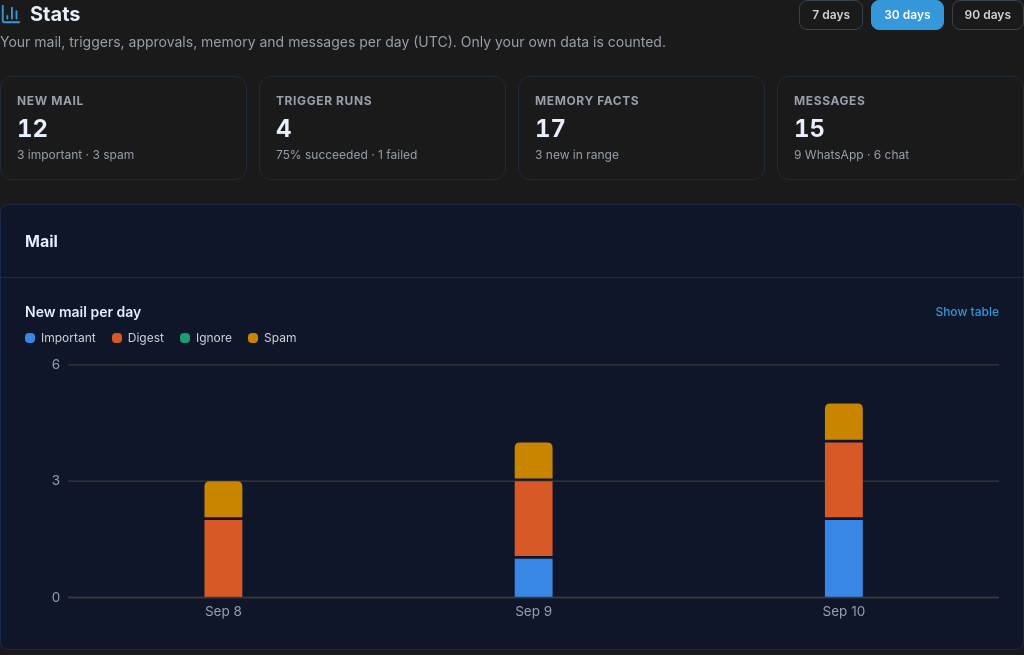
Test: StatsPage › switches the range and offers a table view instead of the chart
Expected: the element with test id "stat-New mail" is shown, top-left (0, 76), bottom-right (247, 180)
Click the button "7 days" at x=831, y=15, box top-left (799, 0), bottom-right (863, 30)
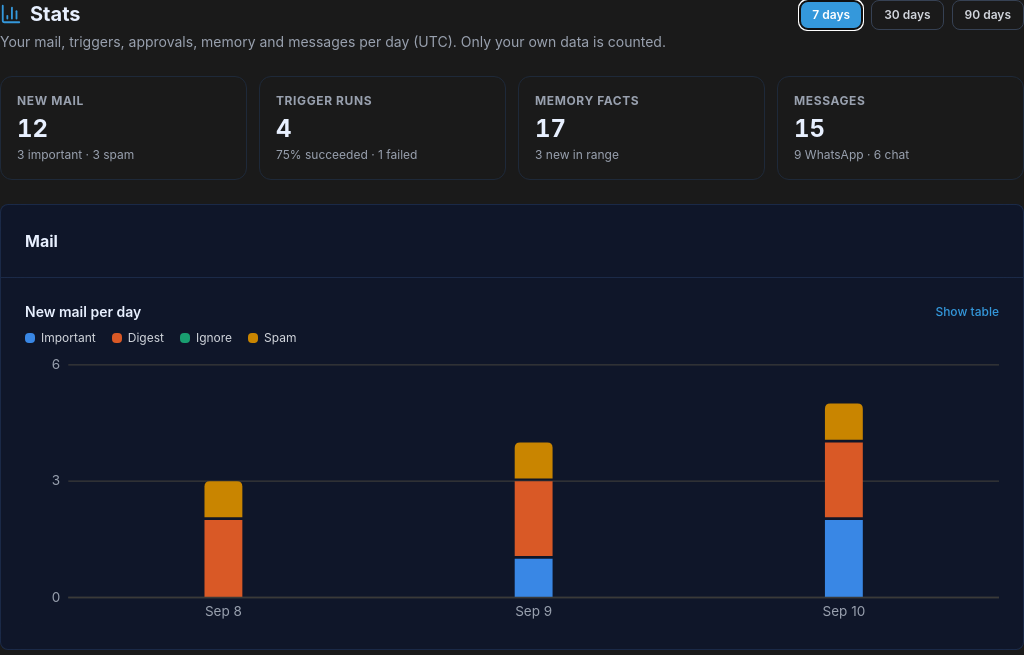
Click the button "Show table" at x=967, y=312, box top-left (935, 304), bottom-right (999, 320)
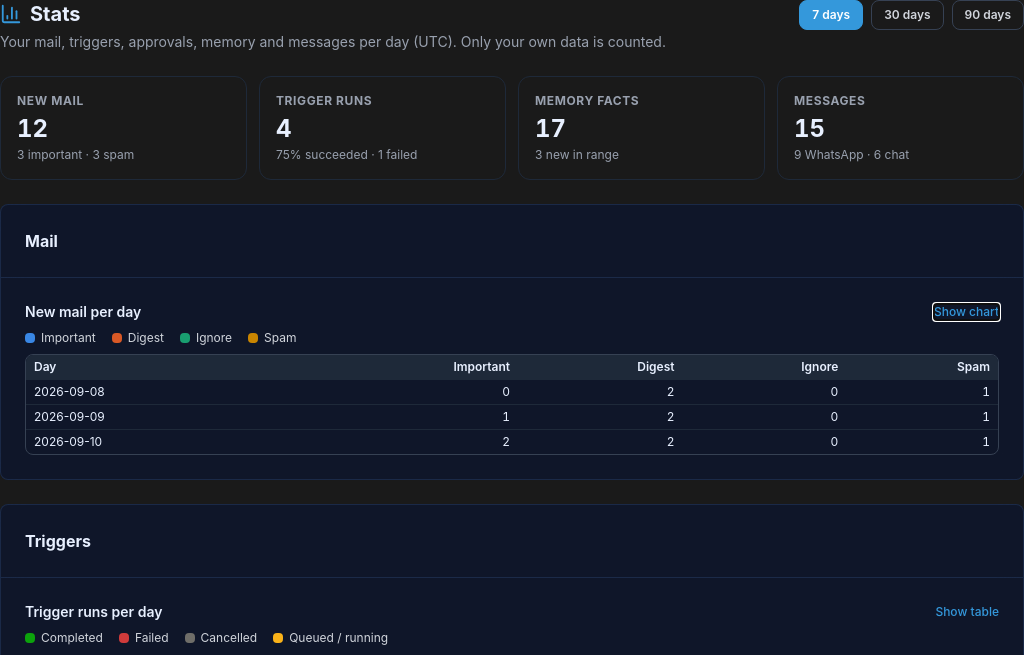
Expected: the table is shown, top-left (26, 355), bottom-right (998, 454)
Expected: the column heading "Spam" is shown, top-left (846, 355), bottom-right (998, 380)
